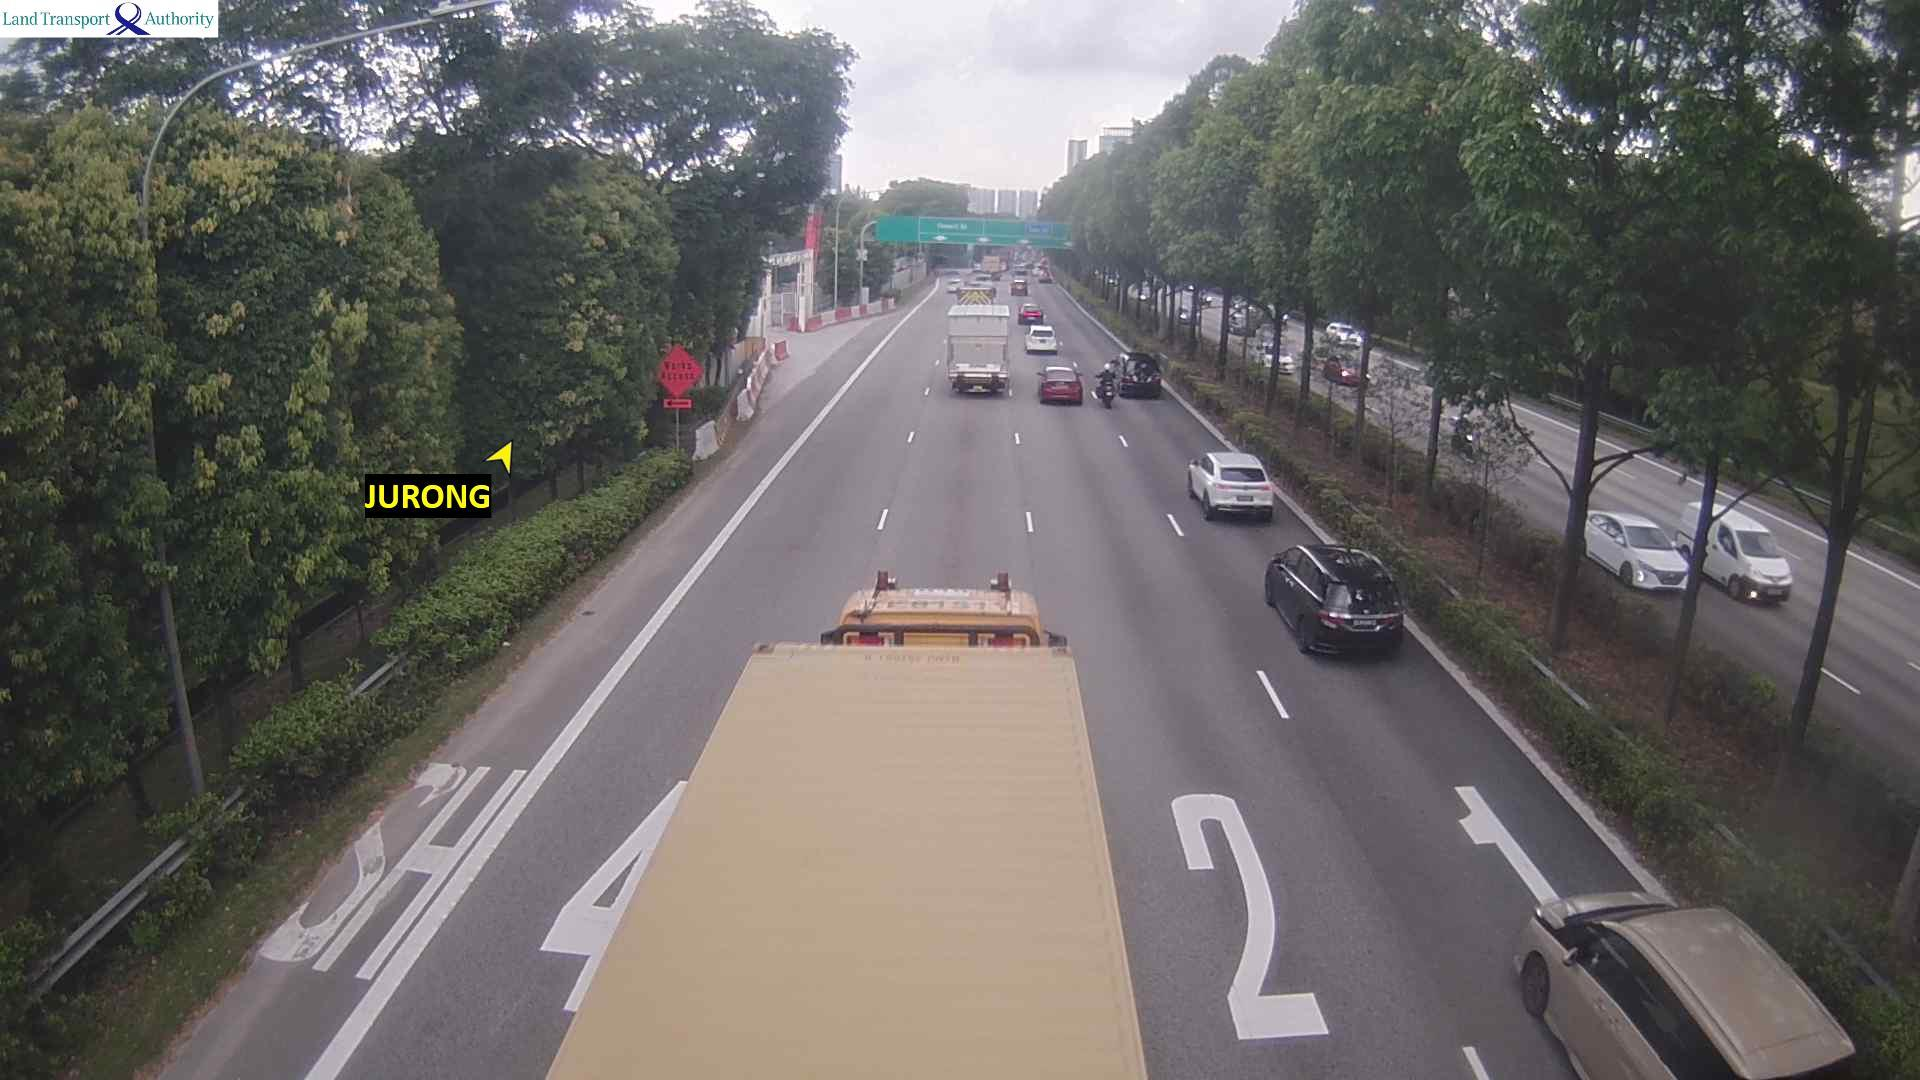incoming: (1720, 522, 1797, 610), (1603, 525, 1691, 594), (1336, 358, 1377, 390)
